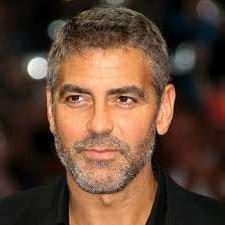Sober: (54, 48, 151, 185)
